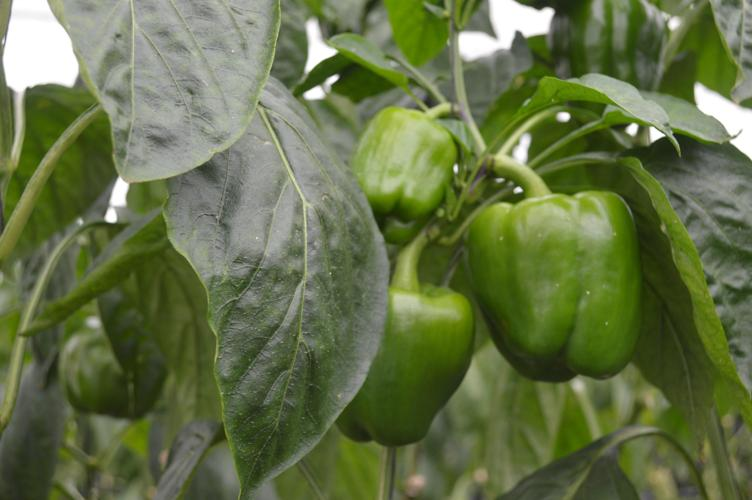BellPepper: (461, 201, 650, 387), (315, 285, 479, 453), (341, 112, 456, 234), (53, 329, 169, 418)
